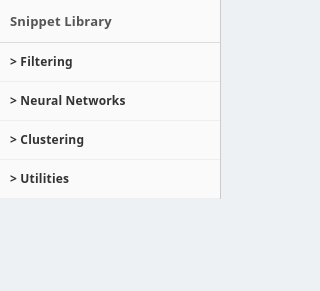
Test: SnippetLibrary › Utilities category contains expected snippets
Click the text "> Utilities" at {"x": 110, "y": 180}, box [0, 160, 220, 200]
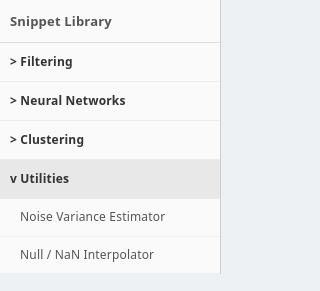
Expected: the text "Noise Variance Estimator" is shown, [0, 200, 220, 237]
Expected: the text "Null / NaN Interpolator" is shown, [0, 237, 220, 274]
